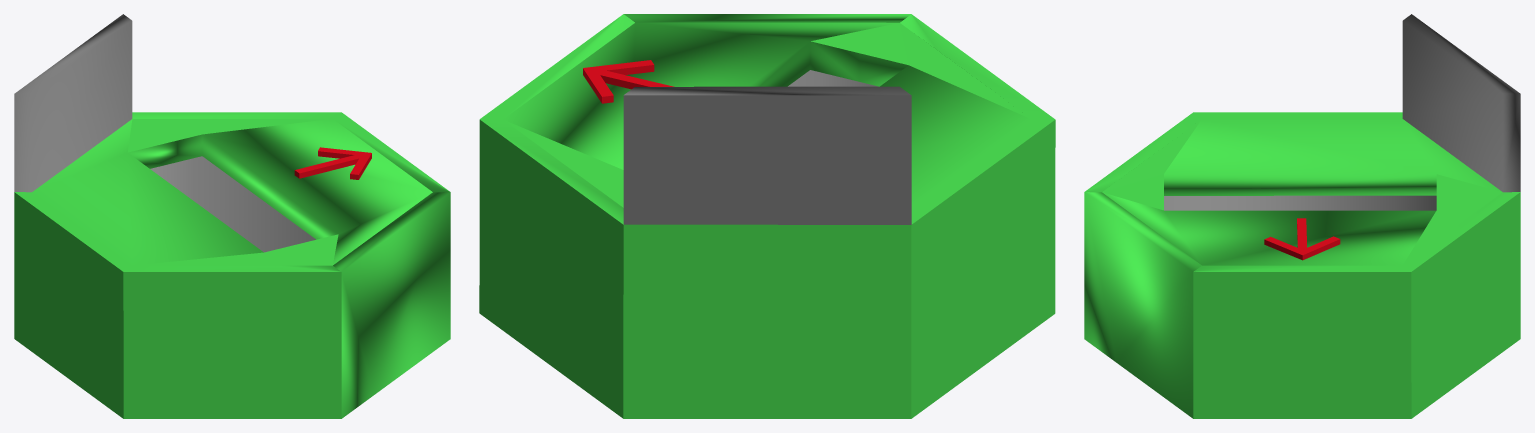
File: ResourceTileStage1_2.fbx
The picture shows the model from 3 angles, left to right: view 1: azimuth 30°, elevation 25°; view 2: azimuth 150°, elevation 25°; view 3: azimuth 270°, elevation 25°; orthographic projection. The views are drawn at different scales.
Visible parts, largest first — view 1: ResourceTileStage1_2; view 2: ResourceTileStage1_2; view 3: ResourceTileStage1_2.
Boxes of the visible parts, bbox=[...] form: ResourceTileStage1_2: bbox=[14, 14, 450, 418]; ResourceTileStage1_2: bbox=[479, 14, 1055, 418]; ResourceTileStage1_2: bbox=[1084, 14, 1520, 418].
Size of the model in its own units: 173 by 124 by 200.
